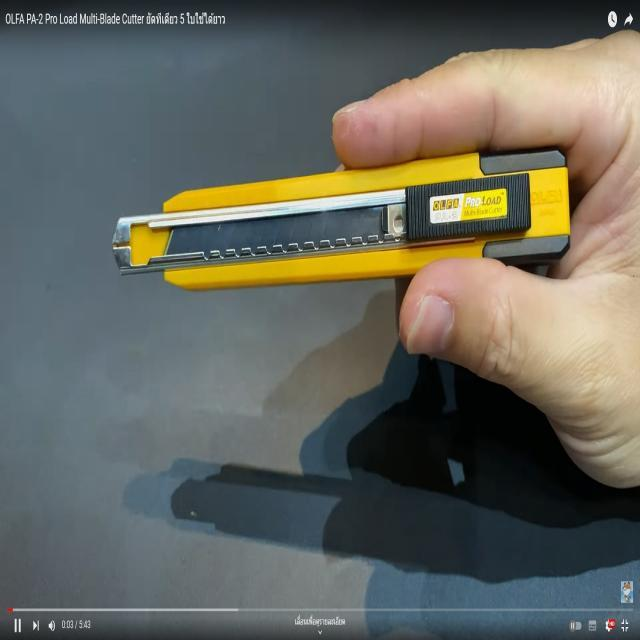cutter: (65, 107, 640, 432)
